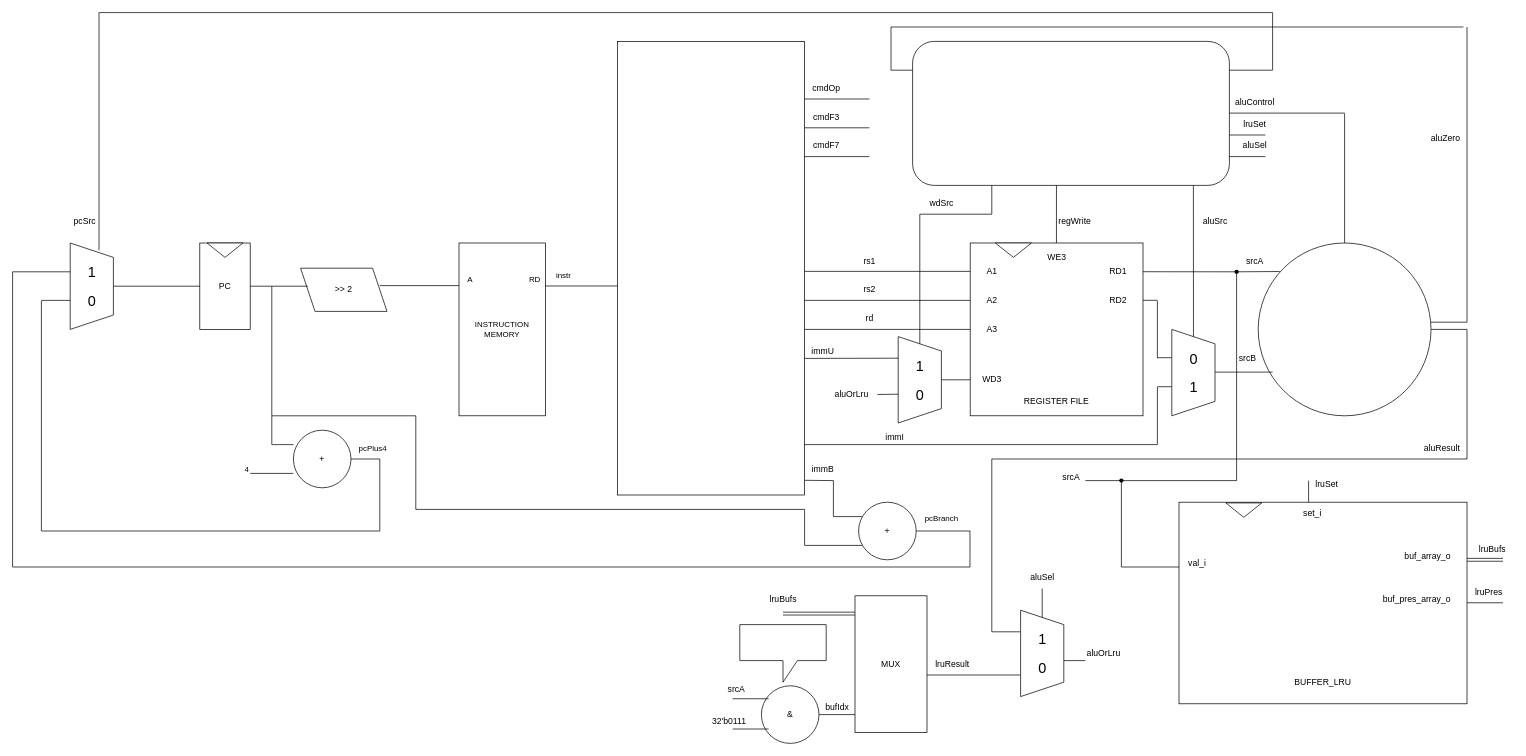
This 1526x756 diagram has some shape labels left out. Each missing label, with the centre of its shape:
ALU: the point at 1344,329
CONTROL UNIT: the point at 1070,113
INSTRUCTION DECODE: the point at 711,268
MASK to lruBufOut: the point at 782,653
